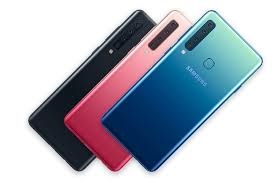samsung: (102, 8, 262, 175)
